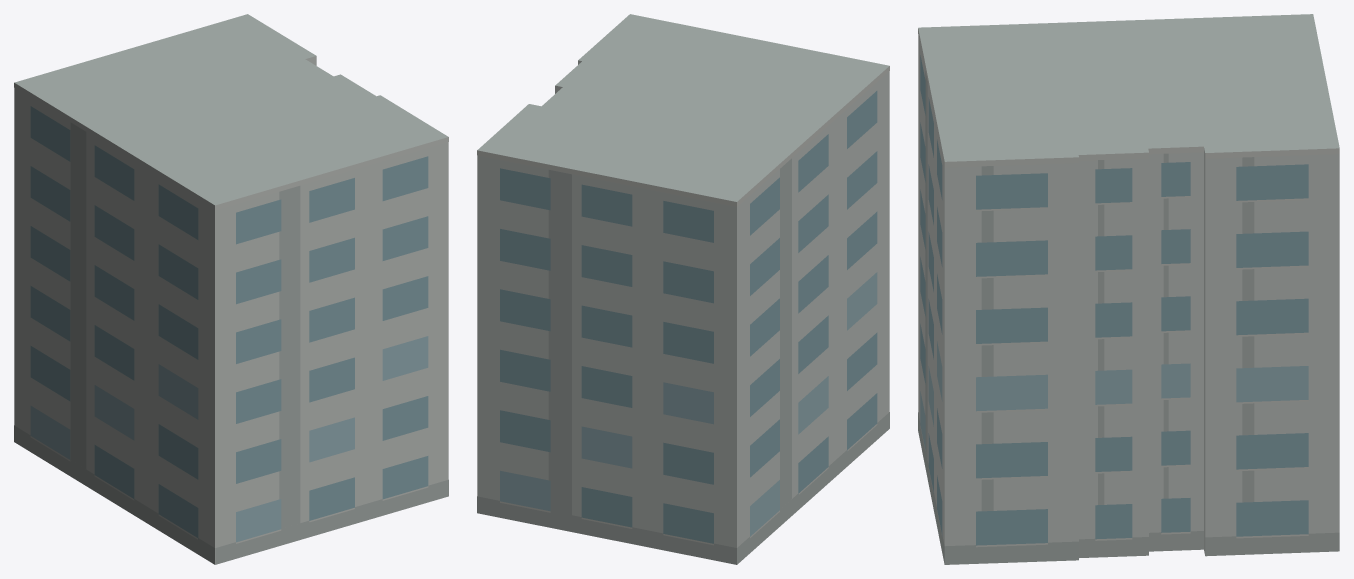
Rendered from survey-upis-32723106.glb.
The picture shows the model from 3 angles, left to right: view 1: azimuth 30°, elevation 25°; view 2: azimuth 150°, elevation 25°; view 3: azimuth 270°, elevation 25°; orthographic projection. The views are drawn at different scales.
Parts seen in each view (by area): view 1: survey-upis-32723106.tmp; view 2: survey-upis-32723106.tmp; view 3: survey-upis-32723106.tmp.
Boxes of the visible parts, x1=… form: survey-upis-32723106.tmp: x1=14, y1=14, x2=448, y2=564; survey-upis-32723106.tmp: x1=477, y1=14, x2=889, y2=564; survey-upis-32723106.tmp: x1=918, y1=14, x2=1339, y2=564.
Size of the model in its own units: 13.54 by 17.2 by 16.32.
